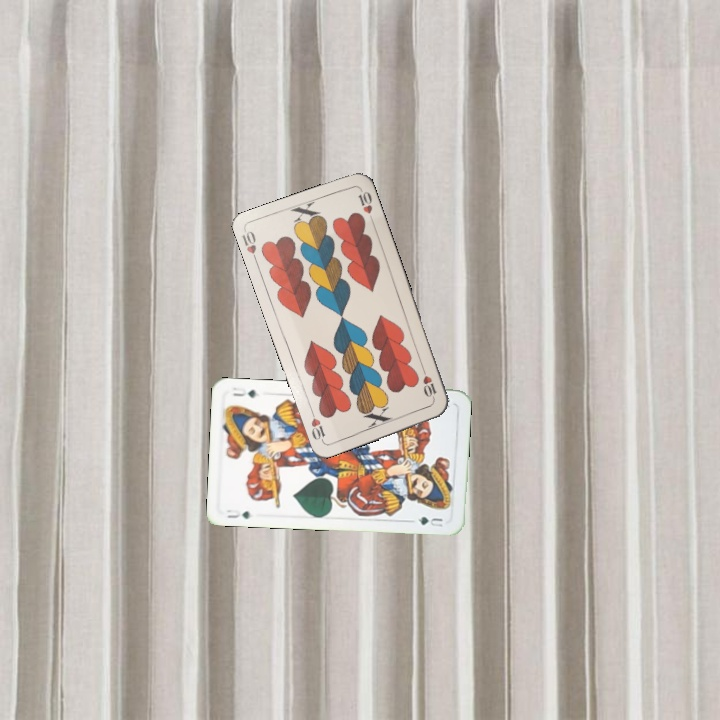GU: (222, 505, 253, 521)
H10: (238, 227, 260, 266), (418, 363, 439, 403)
